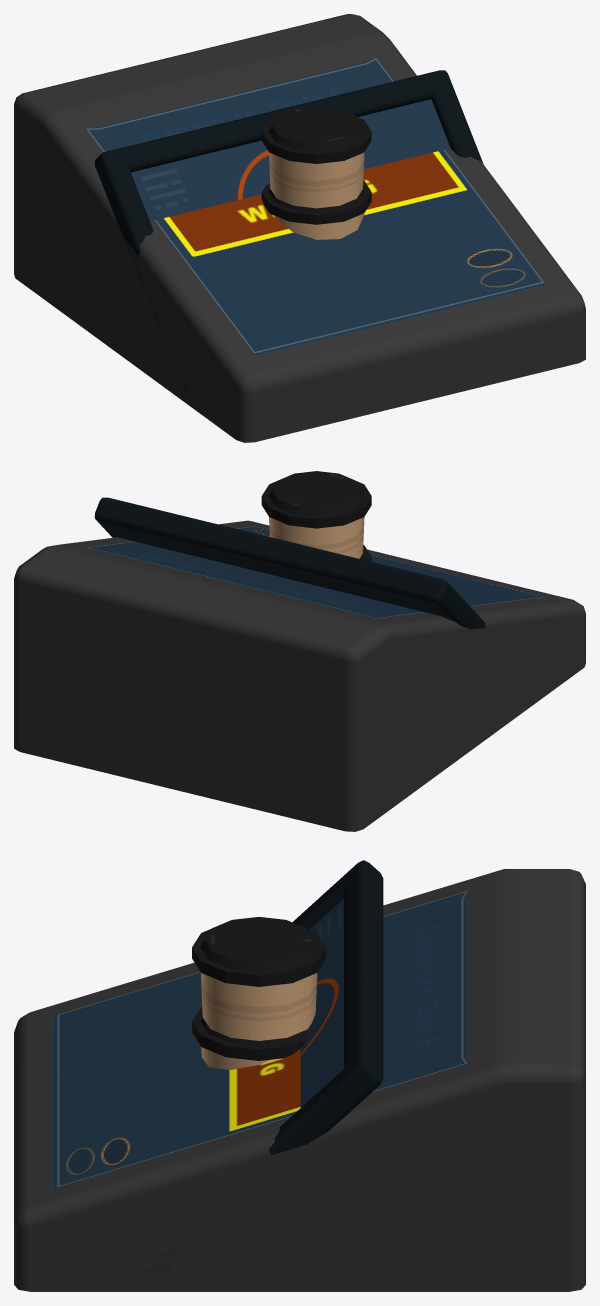
The model's file is SSCSmallProps1.fbx.
3 views of the same model, one above another, from view 1: azimuth 30°, elevation 25°; view 2: azimuth 150°, elevation 25°; view 3: azimuth 270°, elevation 25° (orthographic). The views are drawn at different scales.
Visible parts, largest first — view 1: SSCDeskScreen1, SSCDeskScreen2, SSCCup2, SSCCup1; view 2: SSCDeskScreen1, SSCDeskScreen2, SSCCup2; view 3: SSCDeskScreen1, SSCDeskScreen2, SSCCup2, SSCCup1.
Boxes of the visible parts, bbox=[...] form: SSCDeskScreen1: bbox=[14, 14, 585, 442]; SSCDeskScreen2: bbox=[94, 70, 483, 393]; SSCCup2: bbox=[261, 106, 371, 208]; SSCCup1: bbox=[261, 180, 371, 239]; SSCDeskScreen1: bbox=[14, 520, 585, 831]; SSCDeskScreen2: bbox=[94, 497, 485, 629]; SSCCup2: bbox=[261, 471, 371, 558]; SSCDeskScreen1: bbox=[14, 869, 585, 1291]; SSCDeskScreen2: bbox=[146, 860, 383, 1274]; SSCCup2: bbox=[192, 917, 325, 1040]; SSCCup1: bbox=[192, 1007, 311, 1069].
Size of the model in its own units: 30 by 17.27 by 35.
